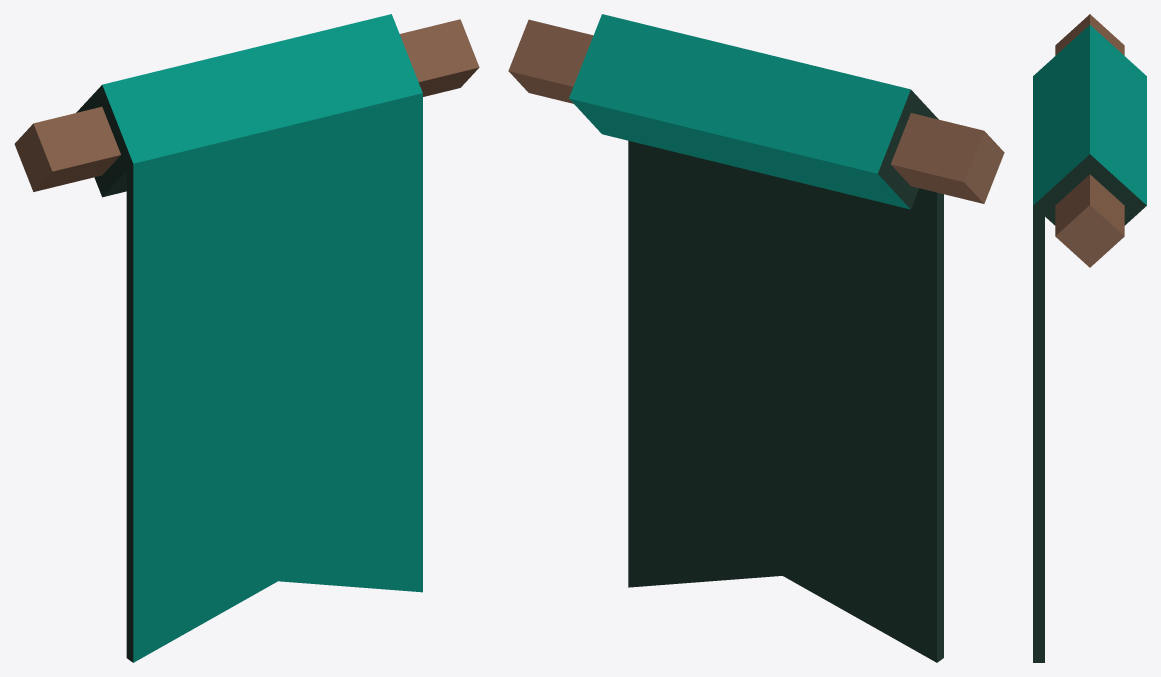
File: TB_Prop_Flag_B.FBX
3 renders of one model, left to right at view 1: azimuth 30°, elevation 25°; view 2: azimuth 150°, elevation 25°; view 3: azimuth 270°, elevation 25°, orthographic. The views are drawn at different scales.
Visible parts, largest first — view 1: TB_Prop_Flag_B; view 2: TB_Prop_Flag_B; view 3: TB_Prop_Flag_B.
Boxes of the visible parts, left/top/right/bottom form: TB_Prop_Flag_B: left=14, top=14, right=479, bottom=662; TB_Prop_Flag_B: left=508, top=14, right=1004, bottom=662; TB_Prop_Flag_B: left=1033, top=14, right=1146, bottom=662.
Size of the model in its own units: 1.95 by 2.42 by 0.4917.
